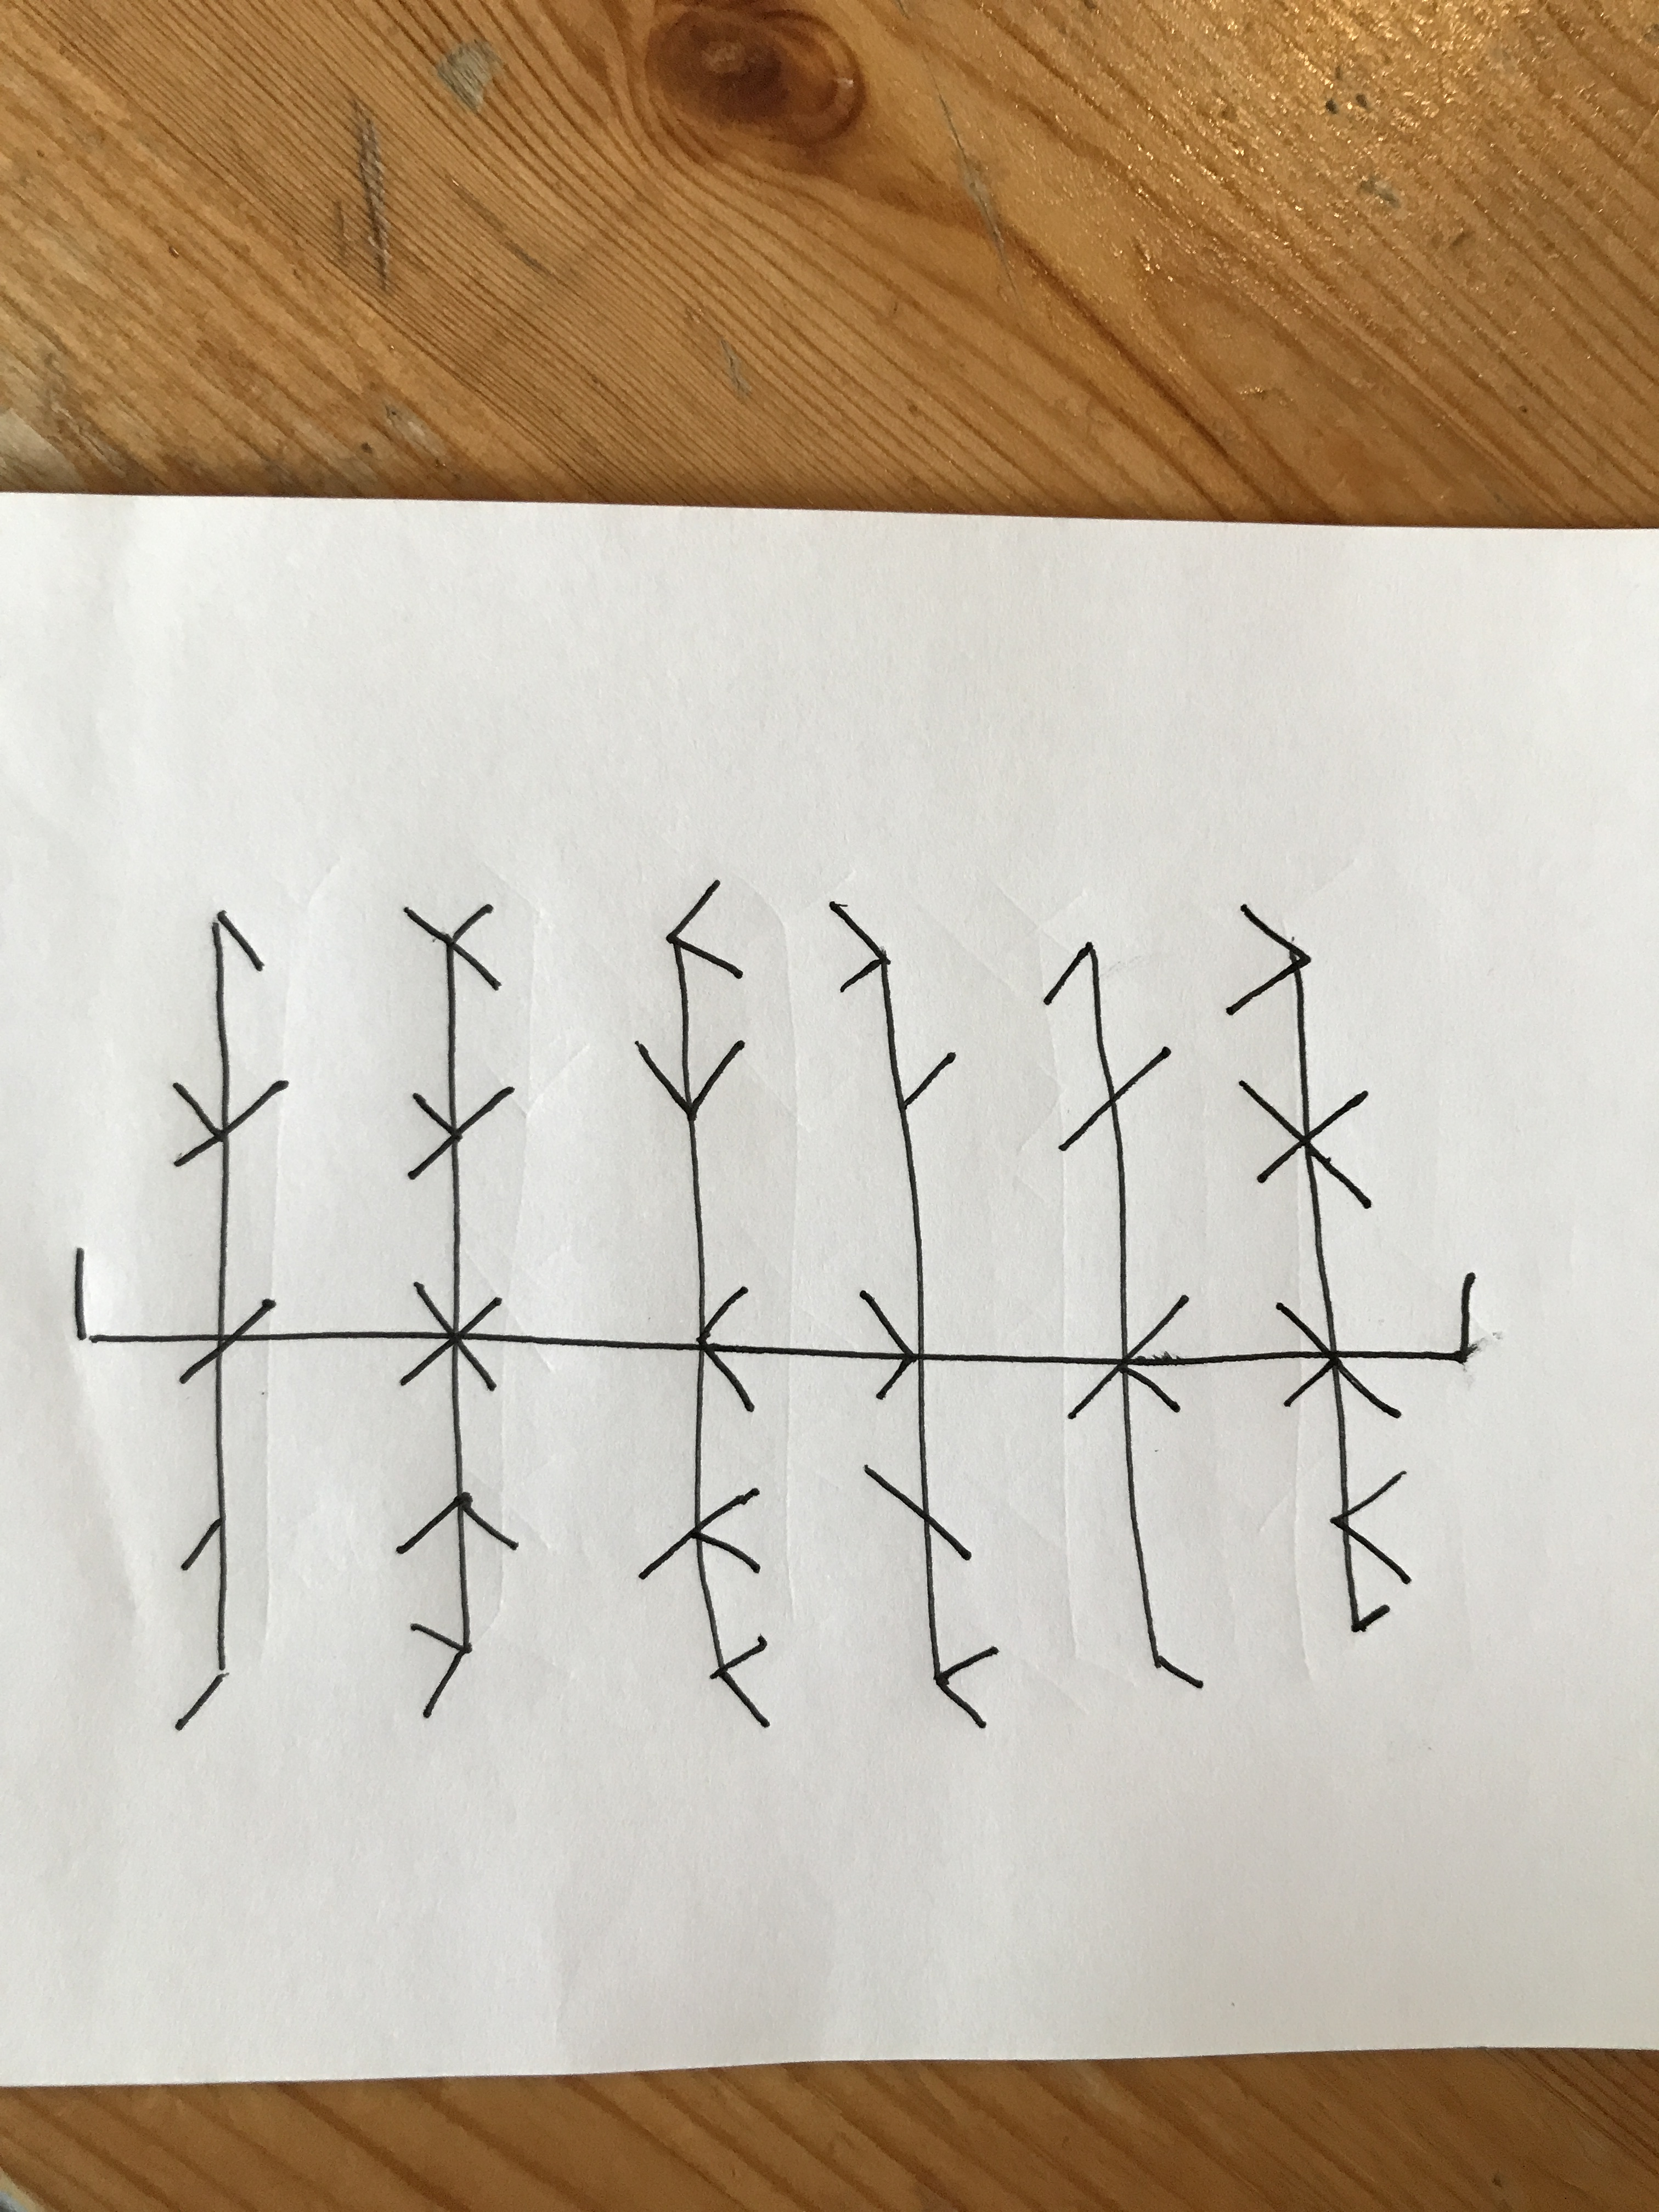Bar: (828, 900, 999, 1728), (1223, 904, 1413, 1634), (1040, 942, 1204, 1689), (634, 878, 774, 1730), (397, 904, 519, 1717), (167, 909, 289, 1723)
Barcode: (71, 876, 1480, 1730)
End: (1349, 1273, 1476, 1366)
Start: (66, 1242, 211, 1348)
